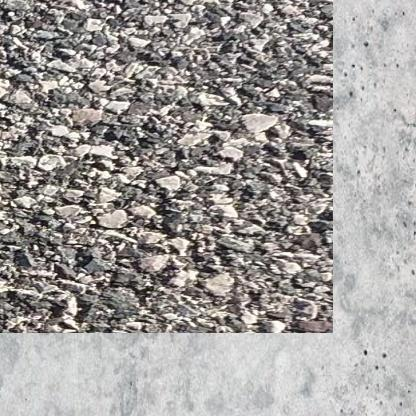Cracks: (0, 60, 308, 113)
